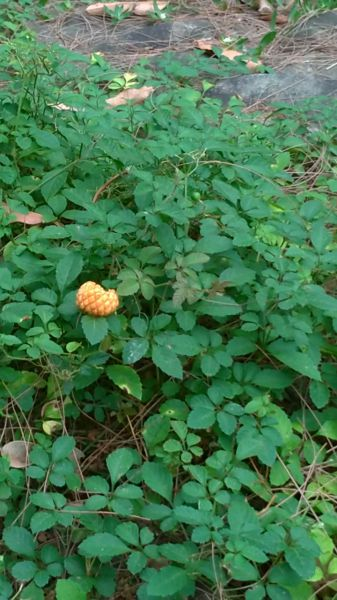eggs: (73, 277, 126, 322)
